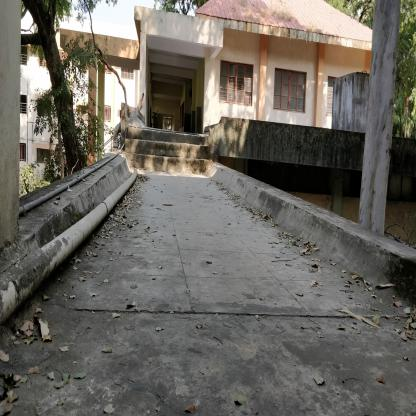stairs: (140, 131, 203, 174)
